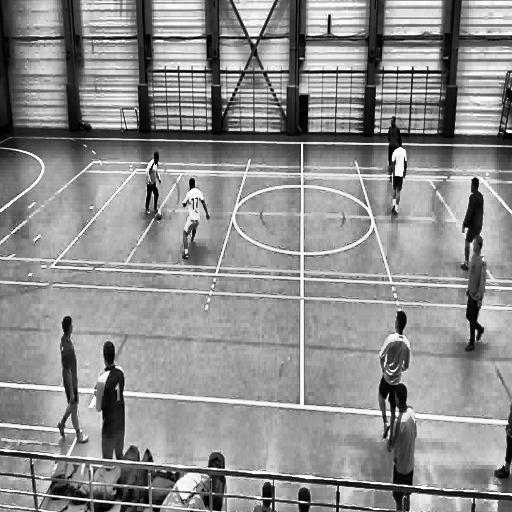ball: (154, 208, 164, 222)
player: (376, 305, 411, 449), (56, 309, 90, 448), (94, 338, 128, 452), (388, 382, 417, 509), (461, 236, 486, 353), (180, 180, 211, 274), (459, 174, 485, 272), (386, 138, 409, 238), (384, 110, 407, 178), (144, 151, 163, 217)
